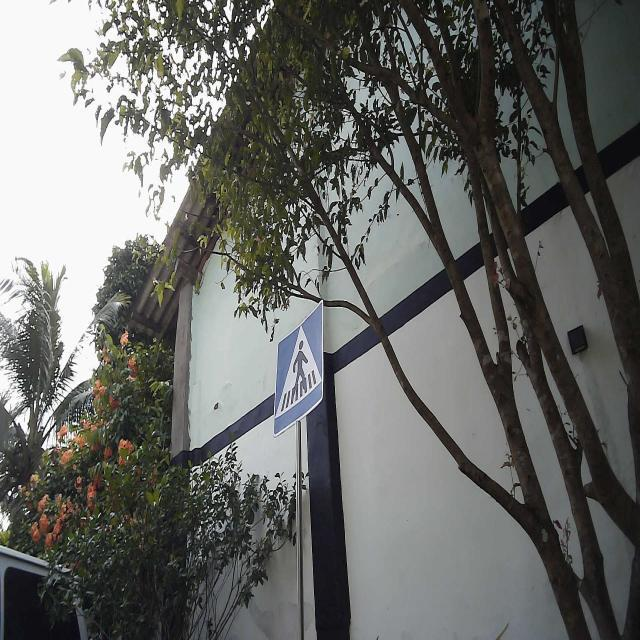crosswalk_sign: (272, 298, 326, 439)
